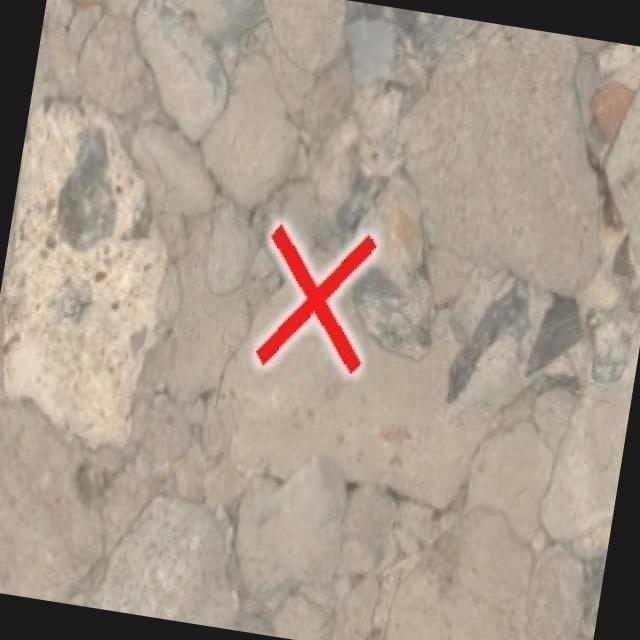x_marker: (252, 220, 378, 378)
